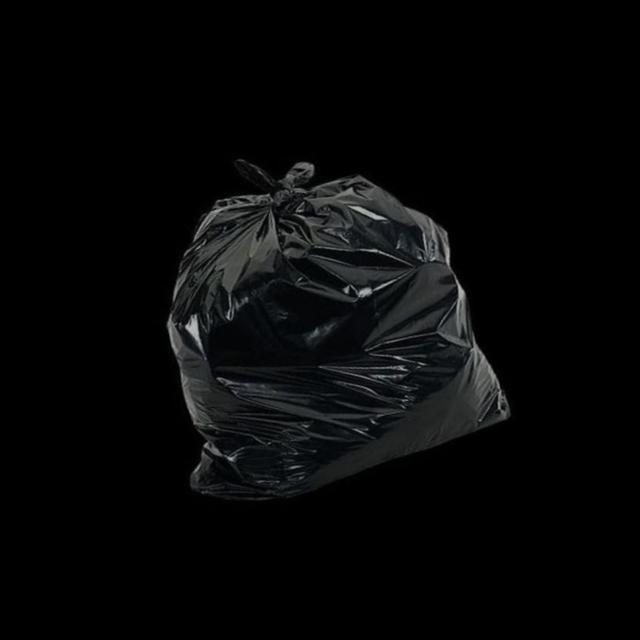Garbage_Bag: (131, 126, 524, 528)
